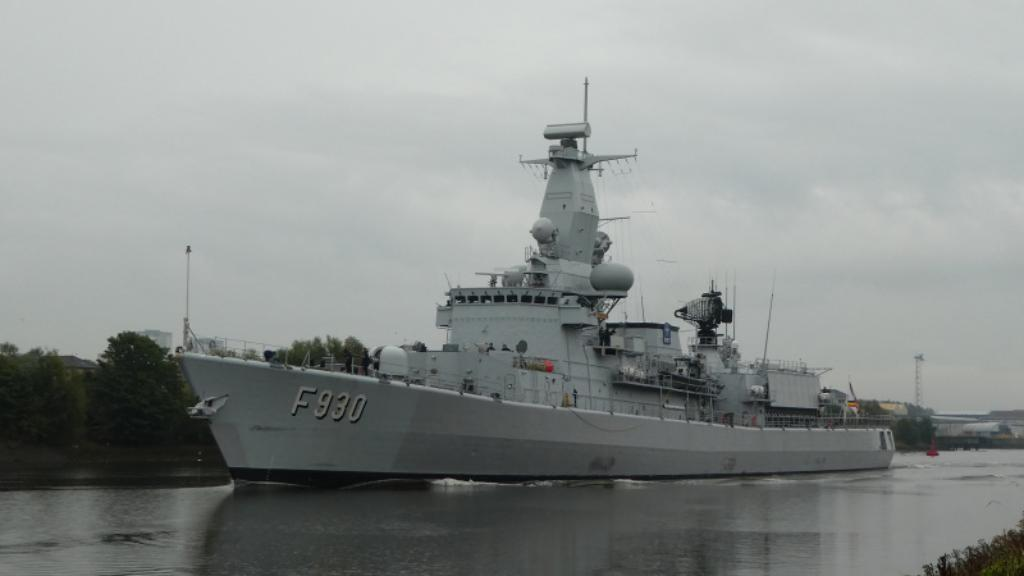Warship: (174, 75, 896, 483)
